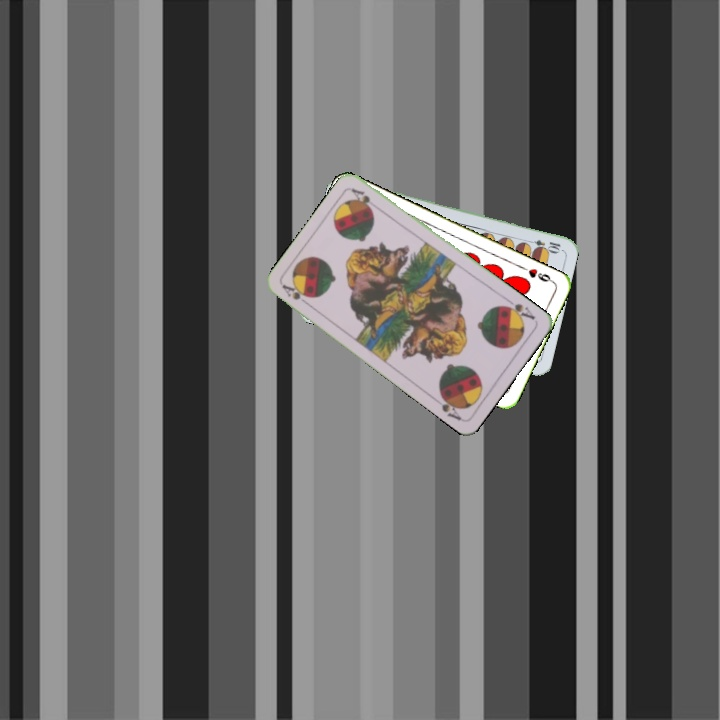E10: (522, 235, 563, 254)
H9: (518, 262, 556, 285)
SA: (499, 295, 538, 324), (278, 280, 314, 309)
